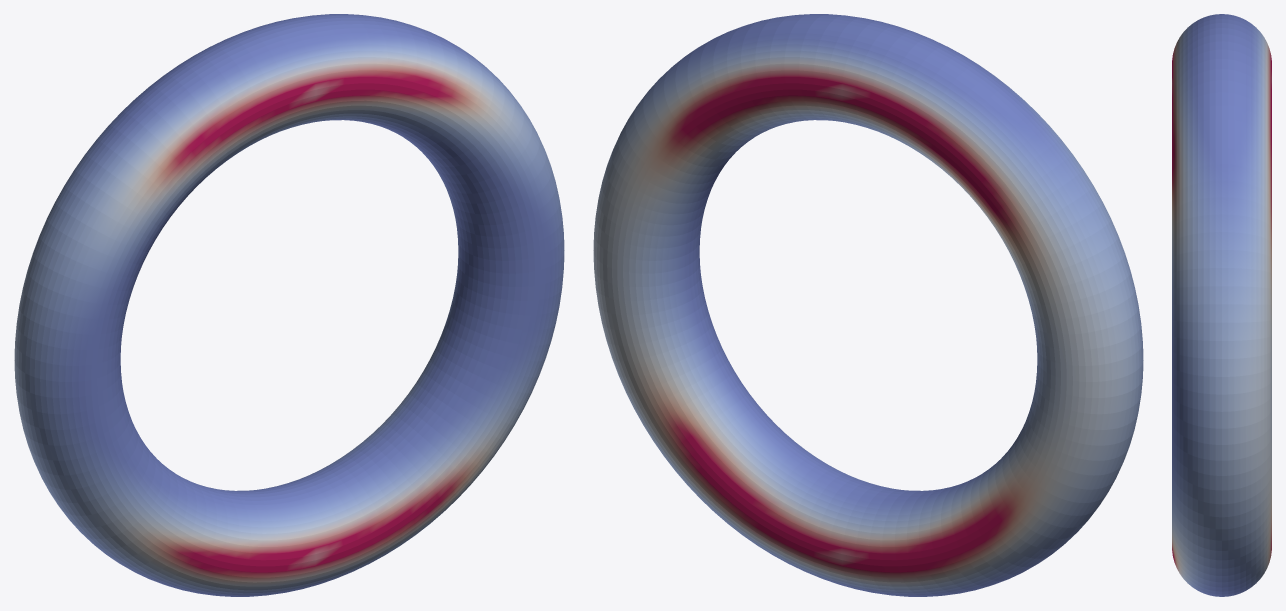
3 renders of one model, left to right at view 1: azimuth 30°, elevation 25°; view 2: azimuth 150°, elevation 25°; view 3: azimuth 270°, elevation 25°, orthographic. The views are drawn at different scales.
Visible parts, largest first — view 1: world; view 2: world; view 3: world.
Boxes of the visible parts, bbox=[...] form: world: bbox=[14, 14, 564, 596]; world: bbox=[593, 14, 1143, 596]; world: bbox=[1172, 14, 1271, 596].
Bounding box in the file's own units: 22.53 × 22.53 × 3.86.
